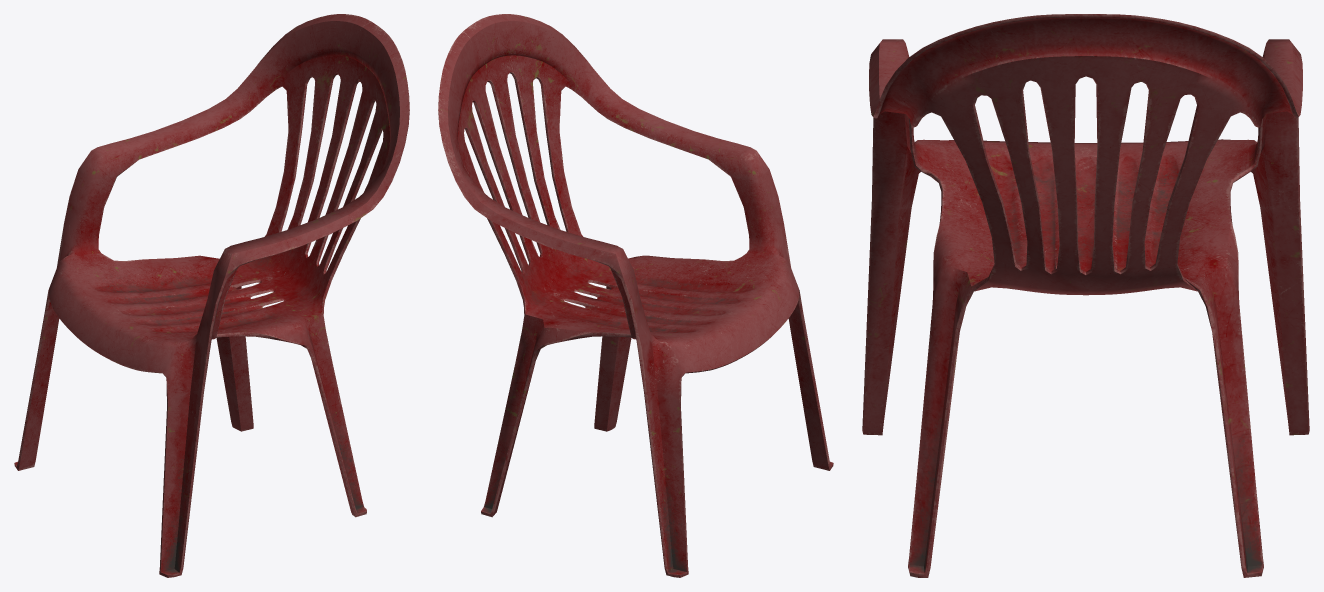
File: SM_ChairPlastic.fbx
3 renders of one model, left to right at view 1: azimuth 30°, elevation 25°; view 2: azimuth 150°, elevation 25°; view 3: azimuth 270°, elevation 25°, orthographic. The views are drawn at different scales.
Visible parts, largest first — view 1: SM_ChairPlastic_LOD0; view 2: SM_ChairPlastic_LOD0; view 3: SM_ChairPlastic_LOD0.
Boxes of the visible parts, x1,y1,x2,y2 form: SM_ChairPlastic_LOD0: [14, 14, 409, 577]; SM_ChairPlastic_LOD0: [438, 14, 833, 577]; SM_ChairPlastic_LOD0: [862, 14, 1309, 577].
Size of the model in its own units: 65.09 by 60.08 by 90.93.
